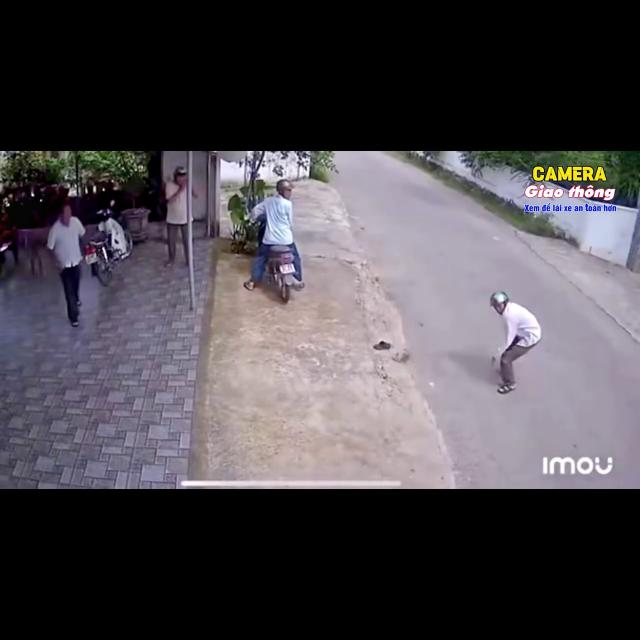motorcycle: (84, 201, 132, 286), (265, 246, 295, 303)
